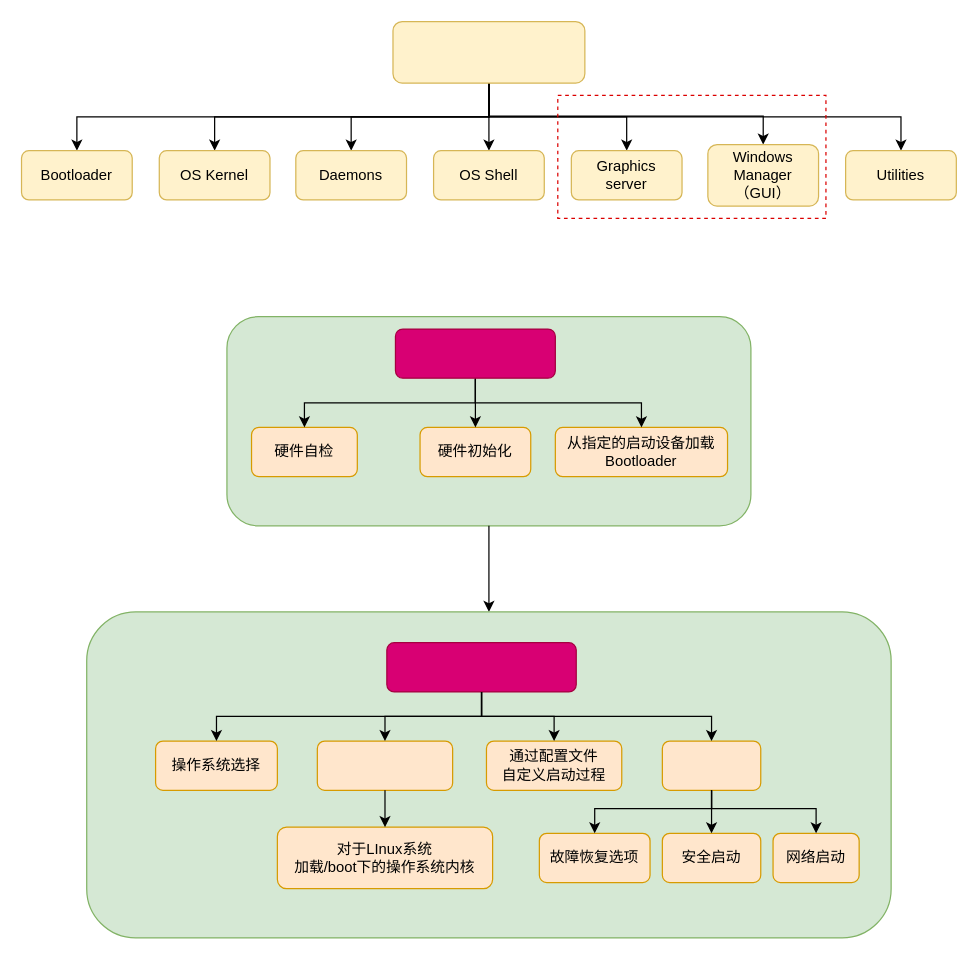
This 978x959 diagram has some shape labels left out. The shapes that lost their labels are listed below. From the top down, each one's centre as x and y in pixels, then its label:
At (488,51): "Linux Components".
At (474,353): "BIOS/UEFI".
At (481,666): "Bootloader(GRUB)".
At (384,765): "加载操作系统内核".
At (711,765): "高级功能".
